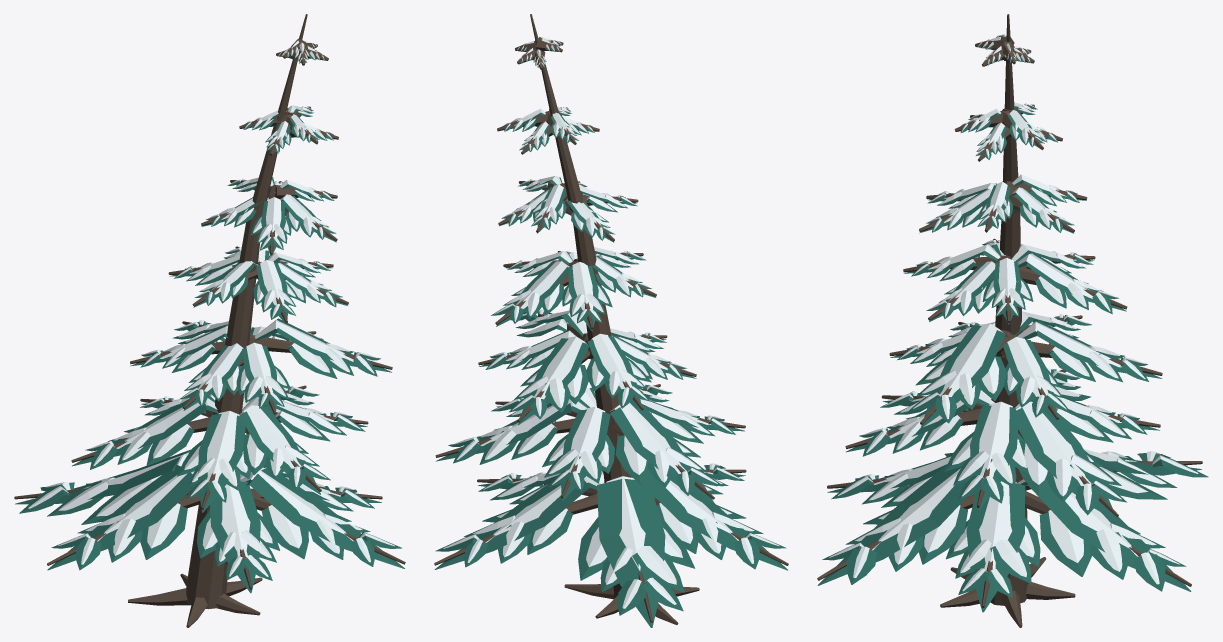
The model's file is TREE_12_EvergreenWindblown.glb.
3 views of the same model, side by side, from view 1: azimuth 30°, elevation 25°; view 2: azimuth 150°, elevation 25°; view 3: azimuth 270°, elevation 25° (orthographic). The views are drawn at different scales.
Parts seen in each view (by area): view 1: TREE_12_EvergreenWindblown; view 2: TREE_12_EvergreenWindblown; view 3: TREE_12_EvergreenWindblown.
Boxes of the visible parts, box(x1,y1,x2,y2) form: TREE_12_EvergreenWindblown: box(14, 14, 405, 627); TREE_12_EvergreenWindblown: box(434, 14, 788, 627); TREE_12_EvergreenWindblown: box(817, 14, 1208, 627).
Bounding box in the file's own units: 4.7 × 7.84 × 4.35.
